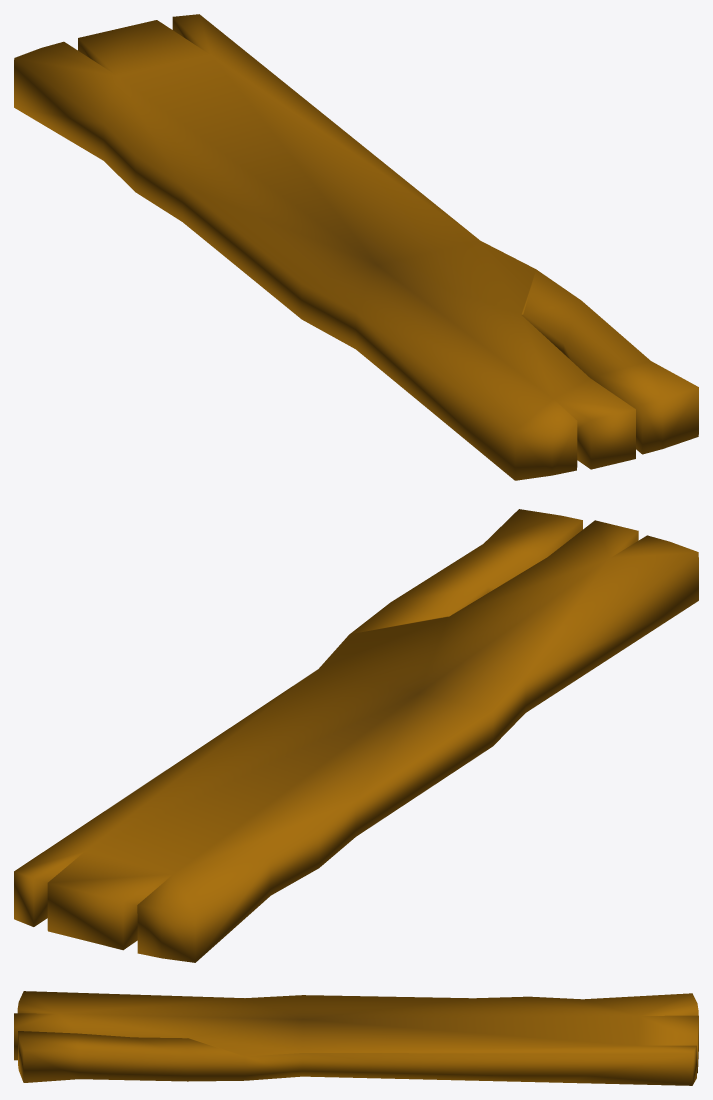
The model's file is Plank2.fbx.
The picture shows the model from 3 angles, top to bottom: view 1: azimuth 30°, elevation 25°; view 2: azimuth 150°, elevation 25°; view 3: azimuth 270°, elevation 25°; orthographic projection. The views are drawn at different scales.
Parts seen in each view (by area): view 1: Plank2; view 2: Plank2; view 3: Plank2.
Part boxes in pixels (<box>): Plank2: <box>14,14,698,480</box>; Plank2: <box>14,509,698,962</box>; Plank2: <box>14,991,698,1085</box>.
Bounding box in the file's own units: 46.36 × 11.52 × 216.
